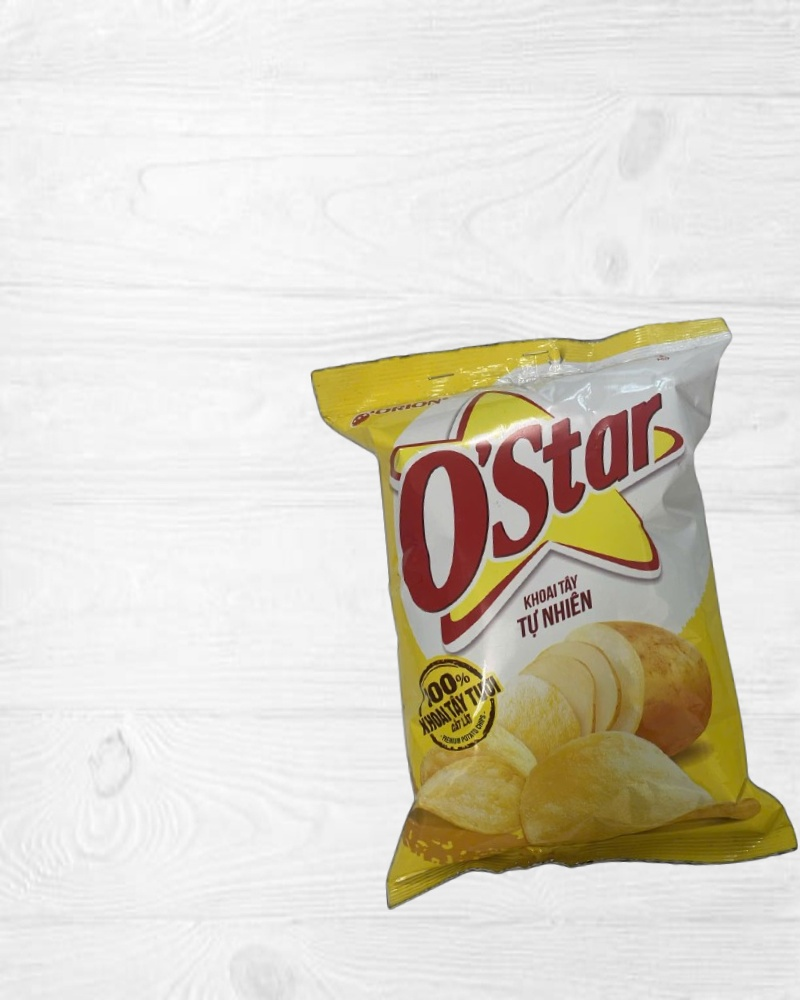O'star: (311, 315, 800, 912)
